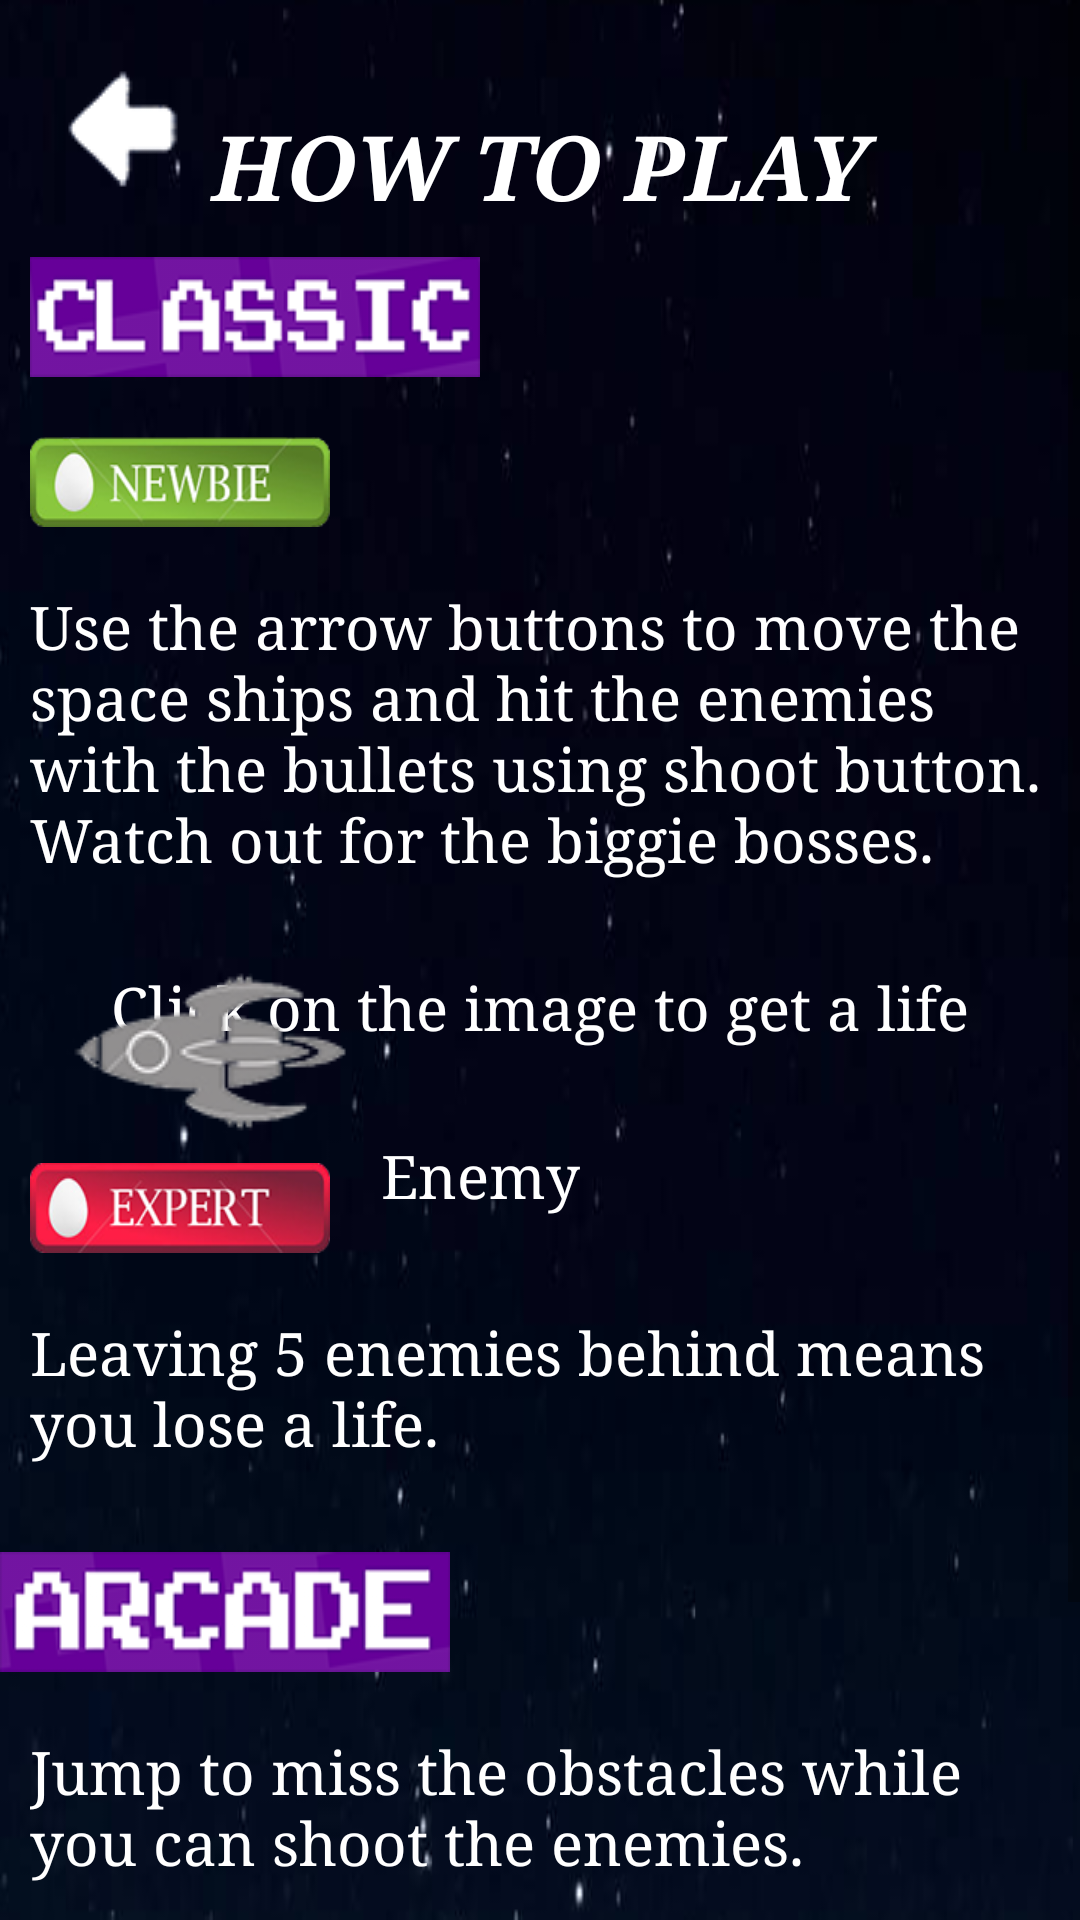

Locate icon controls on the screen. Image size 1080×1920, boxes as region(x1, y1, x2, y2).
back: region(68, 71, 181, 187)
